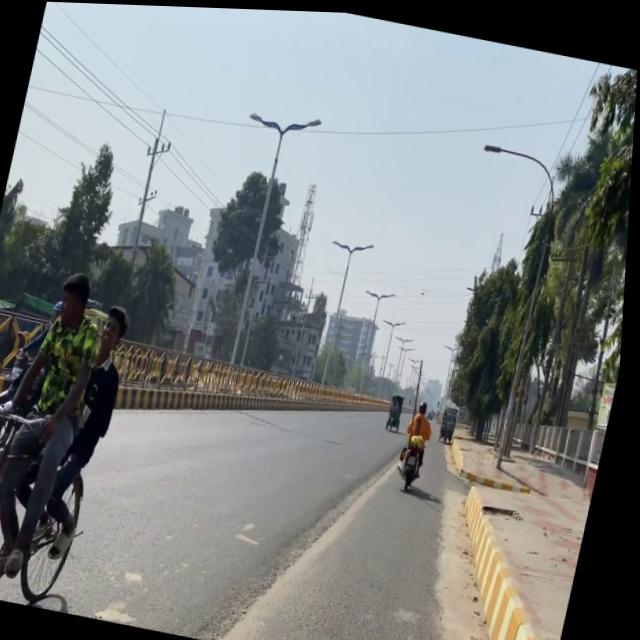Construction-barrier: (104, 346, 390, 455), (205, 468, 364, 640), (448, 432, 547, 492), (465, 464, 539, 491), (0, 366, 21, 416)
Fallen-tree: (397, 429, 434, 490)
Garbage-bin: (0, 262, 119, 586), (401, 396, 442, 475)
Pothole: (222, 387, 561, 640), (407, 423, 606, 640)
